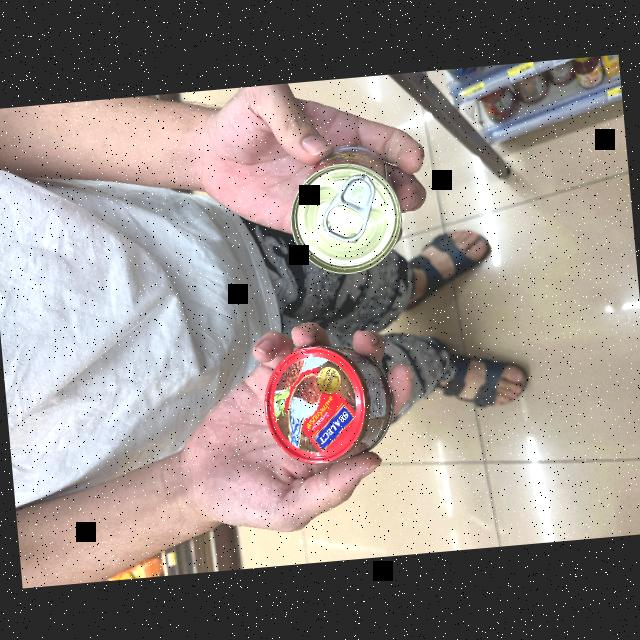can: (250, 334, 404, 472), (281, 134, 412, 288)
